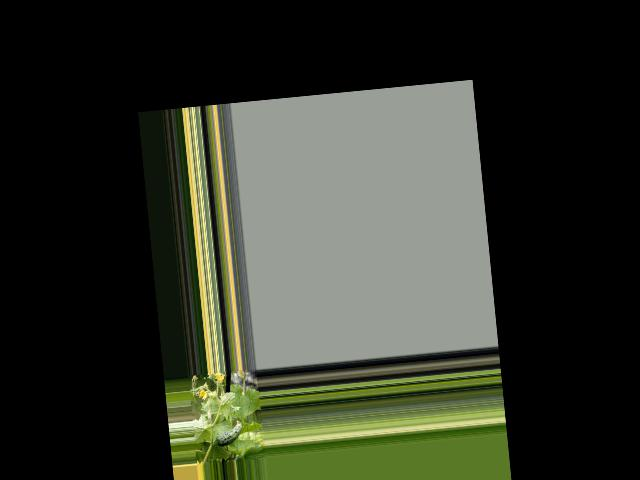cucumber: (213, 419, 243, 446)
